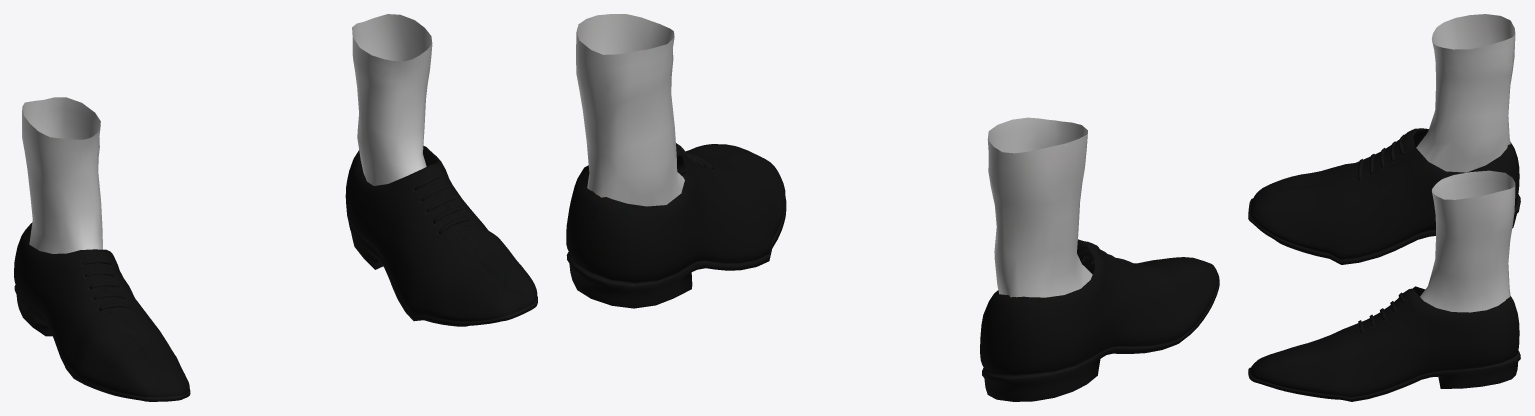
File: mindfront-shoes-oxford-male.glb
The picture shows the model from 3 angles, left to right: view 1: azimuth 30°, elevation 25°; view 2: azimuth 150°, elevation 25°; view 3: azimuth 270°, elevation 25°; orthographic projection. The views are drawn at different scales.
Parts seen in each view (by area): view 1: Human.mindfront_shoes_oxford_male; view 2: Human.mindfront_shoes_oxford_male; view 3: Human.mindfront_shoes_oxford_male.
Part boxes in pixels (<box>): Human.mindfront_shoes_oxford_male: <box>14,14,537,401</box>; Human.mindfront_shoes_oxford_male: <box>566,14,1219,401</box>; Human.mindfront_shoes_oxford_male: <box>1248,14,1520,401</box>.
Size of the model in its own units: 0.4448 by 0.2198 by 0.251.
1 material, 1 textured.
